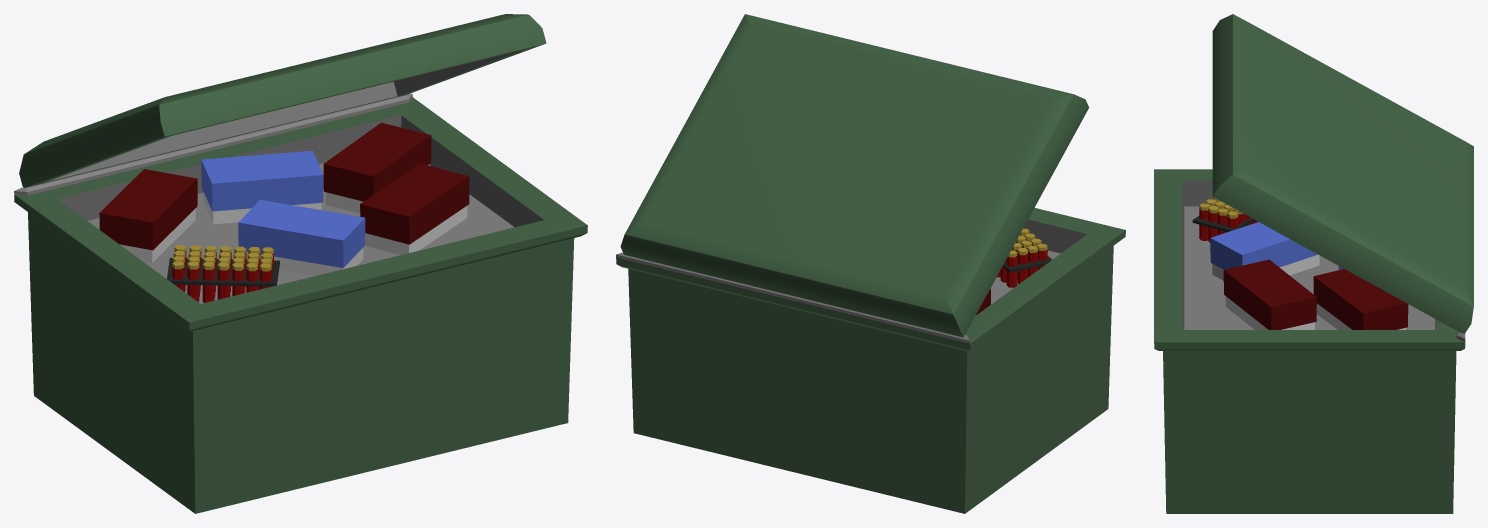
File: Ammo_Crate_Full_01.fbx
3 views of the same model, side by side, from view 1: azimuth 30°, elevation 25°; view 2: azimuth 150°, elevation 25°; view 3: azimuth 270°, elevation 25° (orthographic). The views are drawn at different scales.
Parts seen in each view (by area): view 1: pCylinder31; view 2: pCylinder31; view 3: pCylinder31.
Part boxes in pixels (x1,y1,x2,y2): pCylinder31: [14, 14, 587, 513]; pCylinder31: [616, 14, 1125, 513]; pCylinder31: [1154, 14, 1473, 513].
Size of the model in its own units: 83.5 by 76.32 by 65.25.
